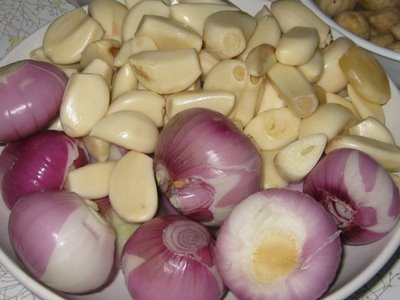onion: (213, 186, 343, 299), (4, 184, 119, 296), (154, 107, 263, 223), (303, 147, 399, 246)
